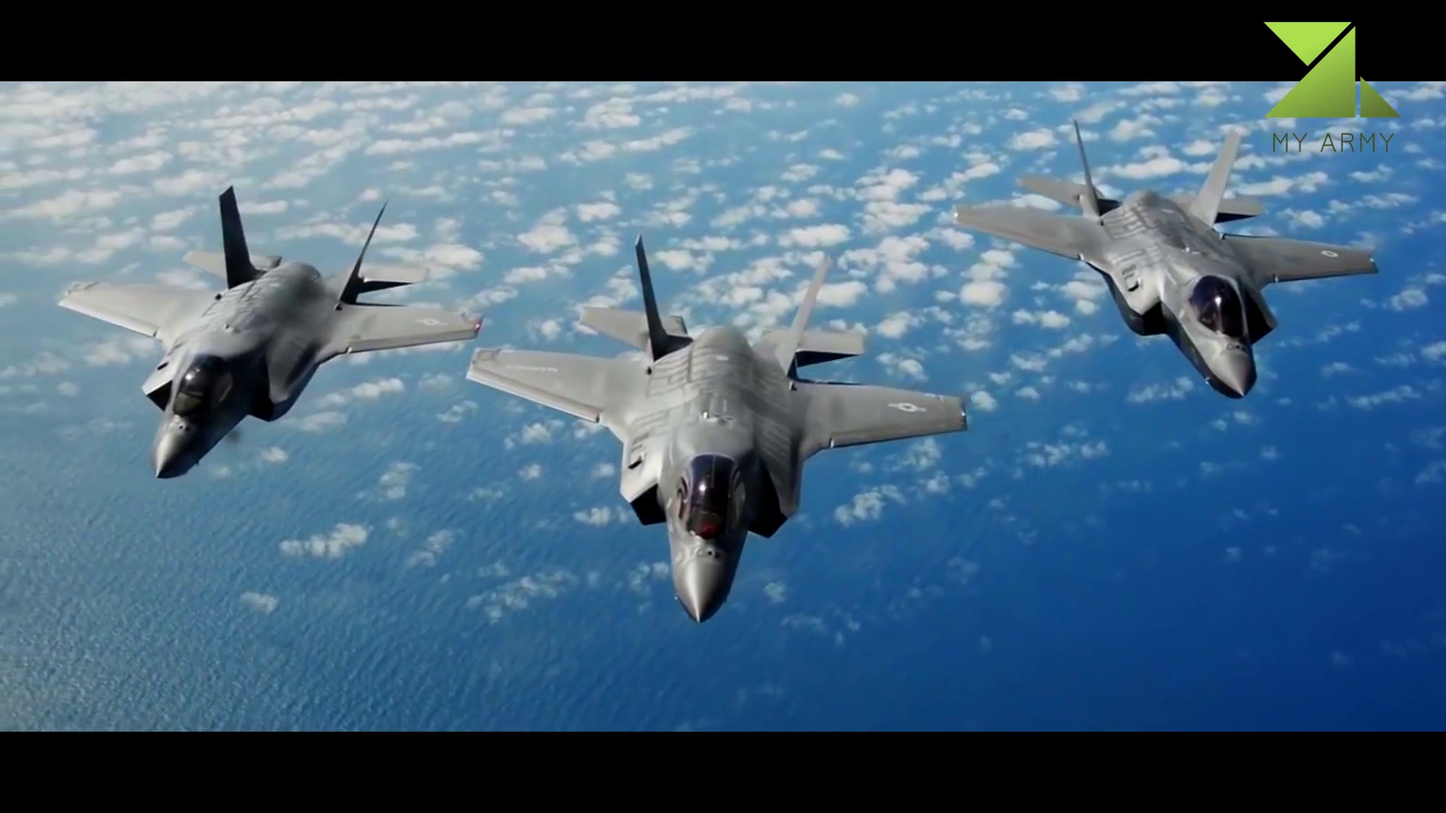F35: (456, 227, 980, 637), (952, 120, 1394, 400), (64, 184, 478, 481)
